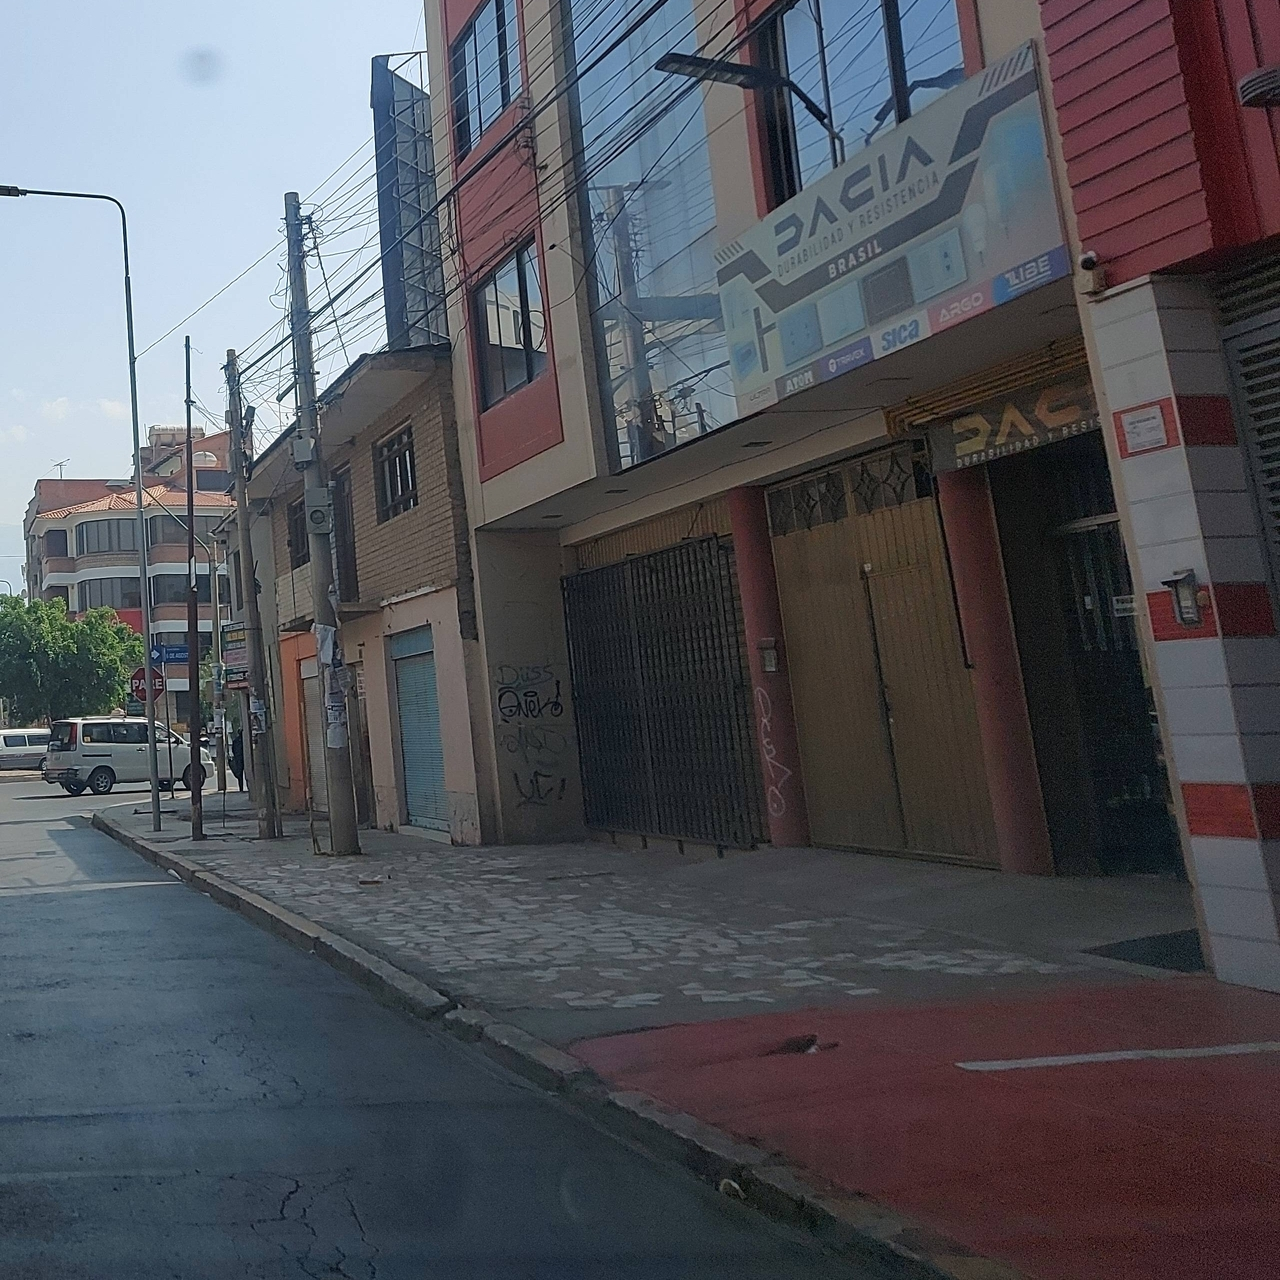pare: (129, 665, 164, 703)
